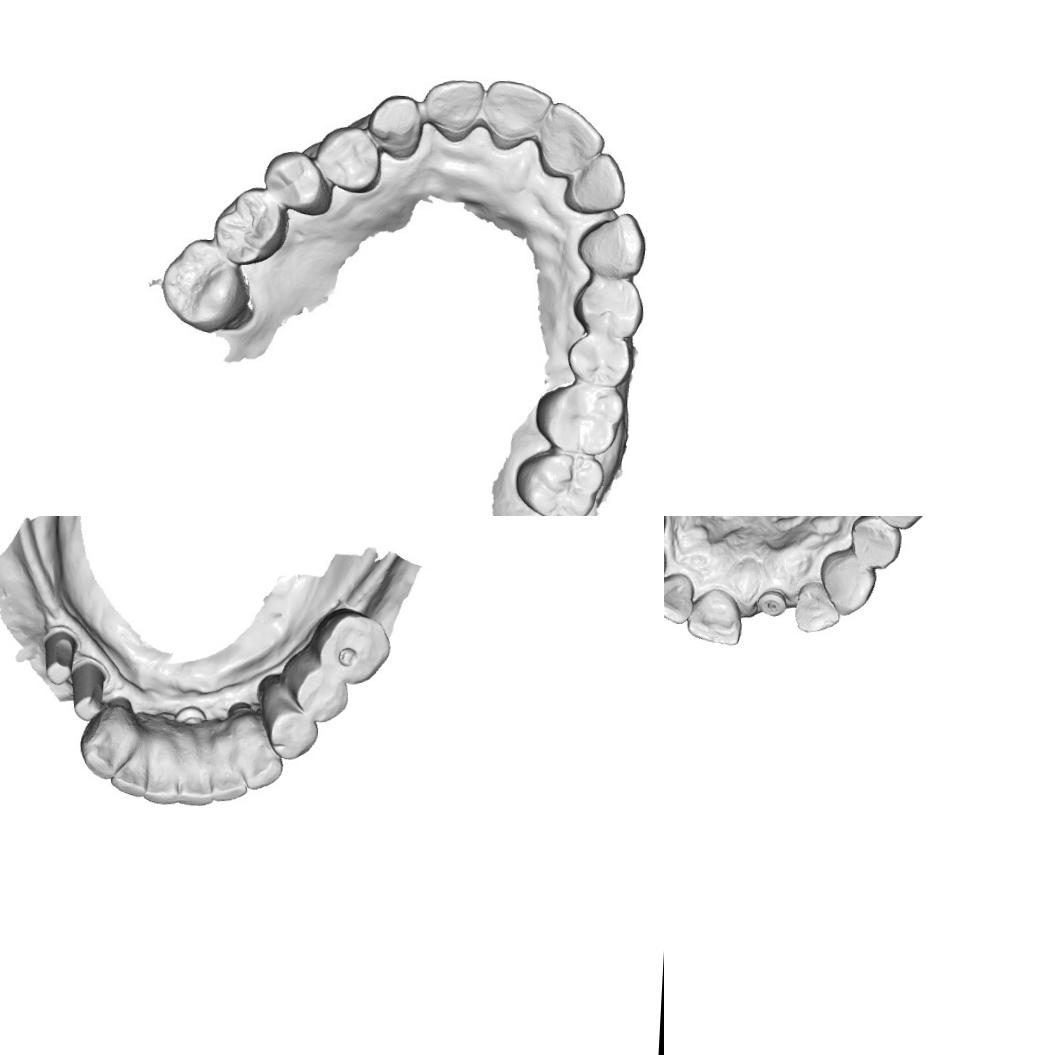abutment: (35, 618, 80, 688), (65, 660, 110, 723)
canine: (571, 208, 648, 280), (365, 90, 424, 162), (820, 554, 880, 618), (238, 732, 286, 793), (77, 722, 127, 778)
implant_minus: (754, 586, 789, 618)
incisor: (537, 99, 608, 179), (560, 147, 631, 216), (484, 78, 552, 150), (421, 75, 487, 146), (684, 586, 743, 647), (791, 579, 842, 635), (208, 750, 250, 808), (143, 757, 184, 805), (175, 762, 215, 808), (664, 569, 695, 626), (110, 756, 150, 799)
molar: (157, 232, 252, 338), (532, 380, 626, 458), (210, 182, 292, 268), (509, 447, 607, 516), (315, 612, 394, 682)
premolar: (260, 146, 336, 218), (312, 122, 384, 194), (570, 275, 646, 339), (563, 328, 635, 386), (292, 660, 354, 724), (264, 702, 322, 761), (846, 516, 904, 572), (863, 516, 933, 532)
